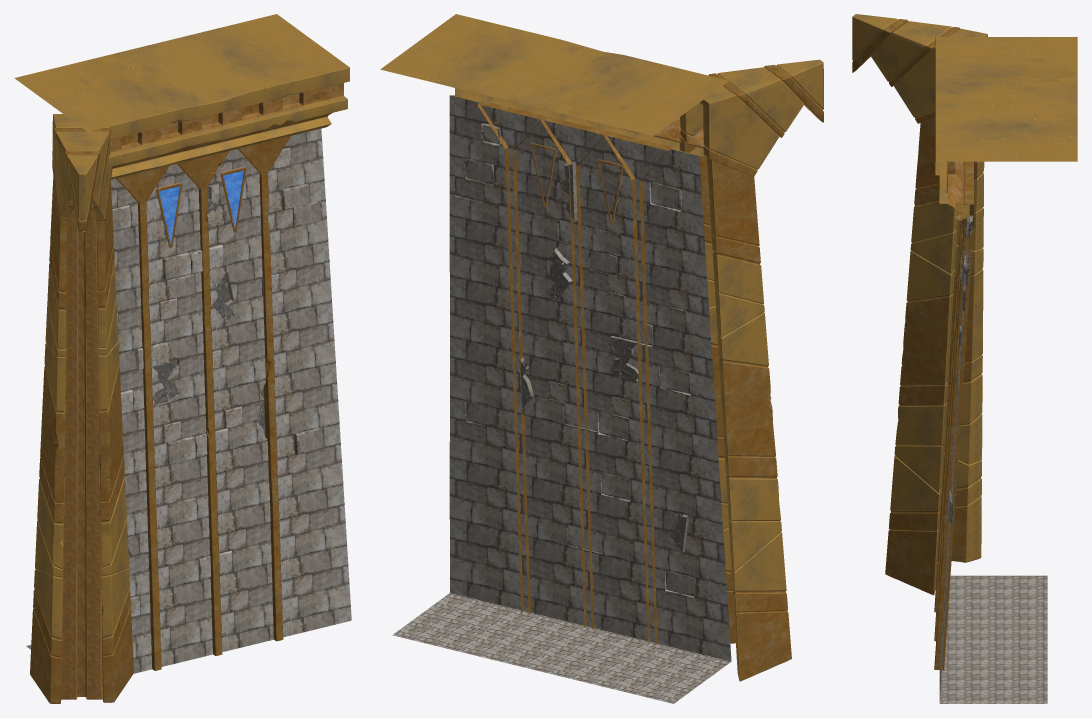
The picture shows the model from 3 angles, left to right: view 1: azimuth 30°, elevation 25°; view 2: azimuth 150°, elevation 25°; view 3: azimuth 270°, elevation 25°; orthographic projection. The views are drawn at different scales.
Parts seen in each view (by area): view 1: SM_KuldrasTower_Bottom_Wall_LOD0; view 2: SM_KuldrasTower_Bottom_Wall_LOD0; view 3: SM_KuldrasTower_Bottom_Wall_LOD0.
Boxes of the visible parts, box(x1,y1,x2,y2) form: SM_KuldrasTower_Bottom_Wall_LOD0: box(14, 14, 351, 703); SM_KuldrasTower_Bottom_Wall_LOD0: box(380, 14, 823, 703); SM_KuldrasTower_Bottom_Wall_LOD0: box(852, 14, 1077, 703).
Size of the model in its own units: 60.89 by 102 by 38.66.
8 materials, 8 textured.
